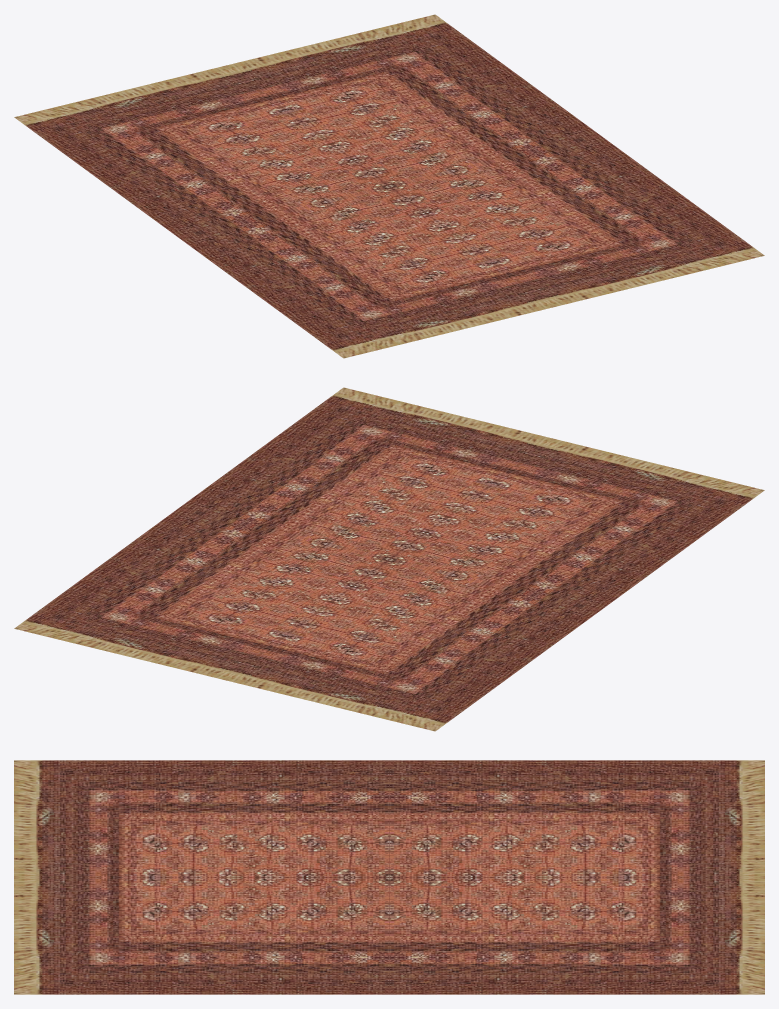
The model's file is frn_all_rug_rectangle_lg_s04.fbx.
The picture shows the model from 3 angles, top to bottom: view 1: azimuth 30°, elevation 25°; view 2: azimuth 150°, elevation 25°; view 3: azimuth 270°, elevation 25°; orthographic projection. The views are drawn at different scales.
Visible parts, largest first — view 1: mesh_node; view 2: mesh_node; view 3: mesh_node.
Boxes of the visible parts, bbox=[...] form: mesh_node: bbox=[14, 14, 764, 358]; mesh_node: bbox=[14, 387, 764, 731]; mesh_node: bbox=[14, 760, 764, 994].
Bounding box in the file's own units: 2.98 × 0 × 4.03.
1 material, 1 textured.
